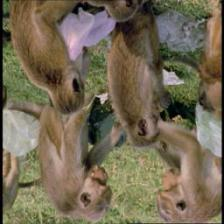monkey: (73, 155, 119, 220), (122, 96, 162, 156), (48, 64, 93, 113), (154, 164, 189, 220), (191, 82, 216, 124)
